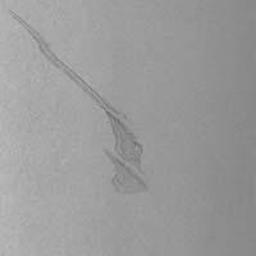Water spot: (8, 9, 150, 195)
